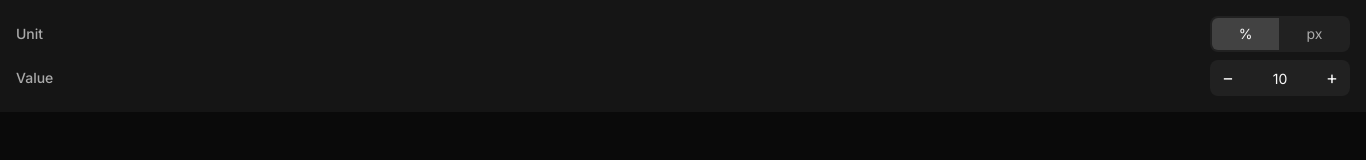
StepperInput › validates input on blur - extracts number
Replace the text in the number field with "15abc" at (1280, 78), box [1246,60,1314,96]
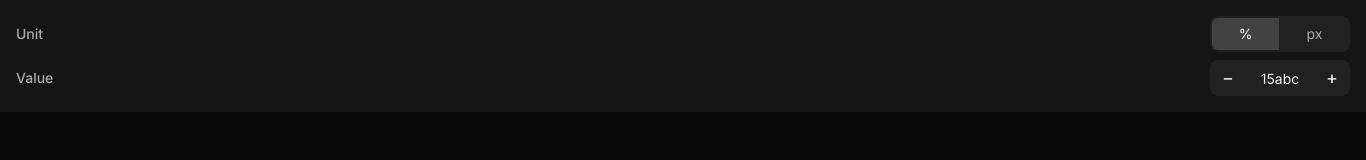
Leave the number field, box [1246,60,1314,96]
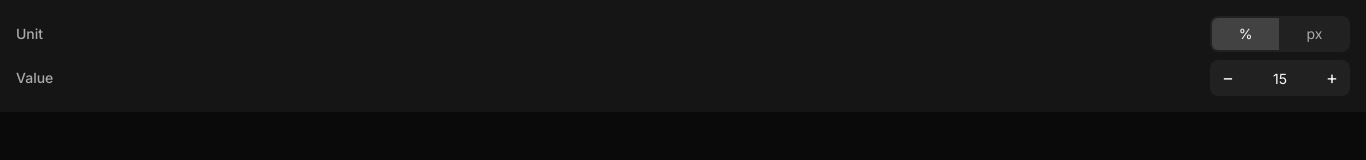
Check: the number field holds "15", box [1246,60,1314,96]
